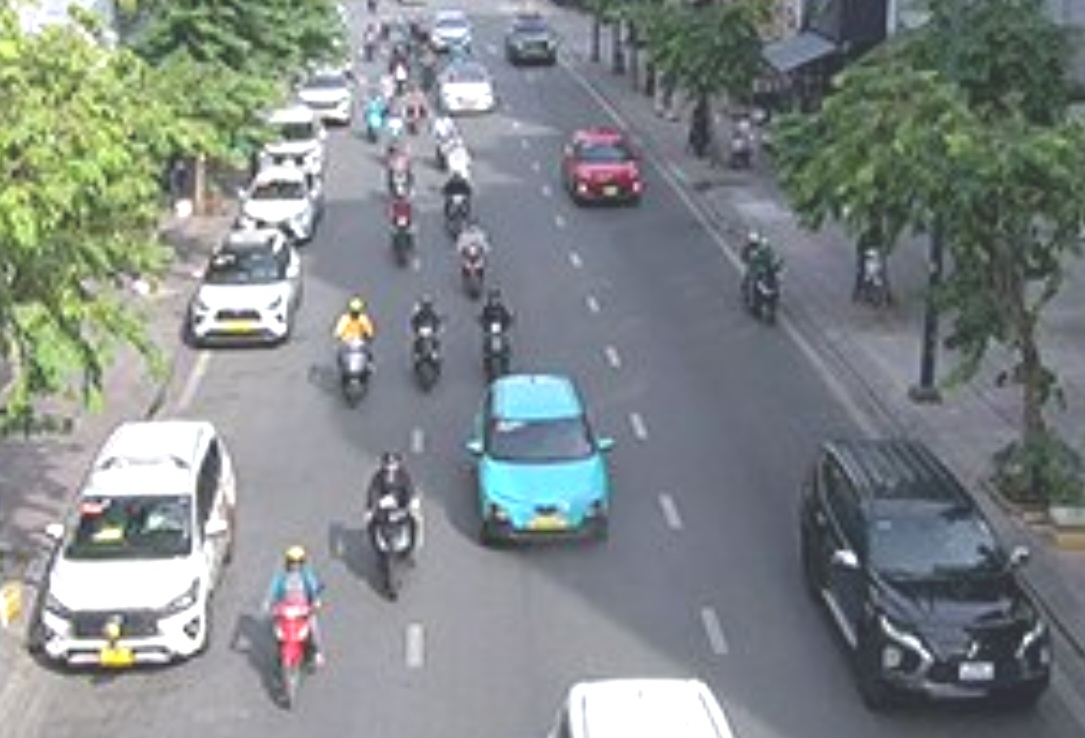car: (797, 432, 1052, 713), (30, 420, 239, 671), (475, 365, 612, 546), (191, 228, 301, 353), (557, 123, 647, 212), (238, 169, 324, 237), (255, 109, 330, 171), (436, 61, 495, 114), (297, 68, 356, 121), (504, 15, 562, 67), (432, 12, 472, 53)
